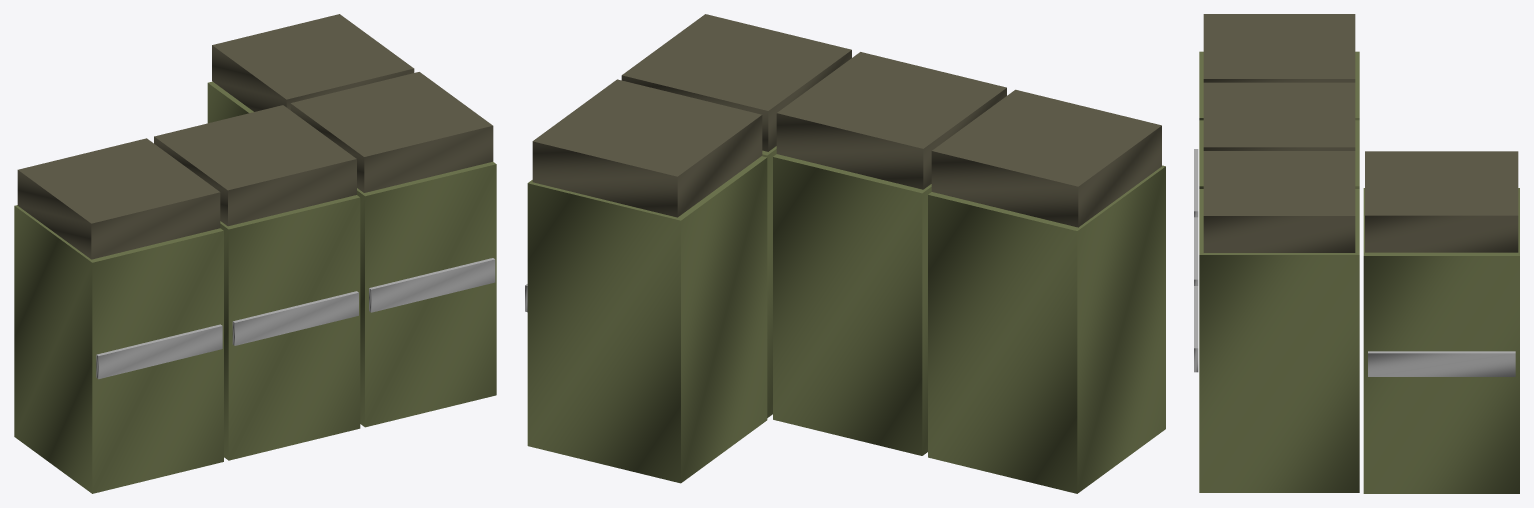
Rendered from SM_HescoRemateEspejo_v3_RemateSacos_e0_Sano_LOD1.fbx.
3 renders of one model, left to right at view 1: azimuth 30°, elevation 25°; view 2: azimuth 150°, elevation 25°; view 3: azimuth 270°, elevation 25°, orthographic. The views are drawn at different scales.
Visible parts, largest first — view 1: SM_hesco_piezas_v32_LOD1; view 2: SM_hesco_piezas_v32_LOD1; view 3: SM_hesco_piezas_v32_LOD1.
Boxes of the visible parts, left/top/right/bottom form: SM_hesco_piezas_v32_LOD1: left=14, top=14, right=496, bottom=493; SM_hesco_piezas_v32_LOD1: left=525, top=14, right=1165, bottom=493; SM_hesco_piezas_v32_LOD1: left=1194, top=14, right=1519, bottom=493.
Bounding box in the file's own units: 3.34 × 2.09 × 2.23.
